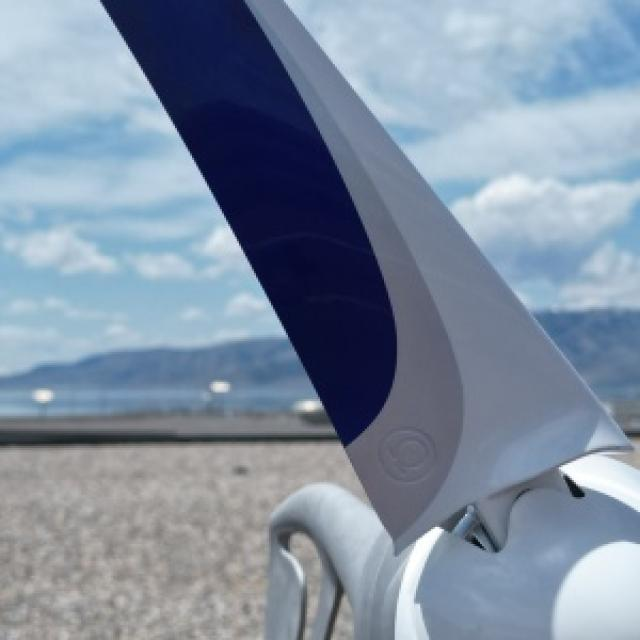healthy: (100, 0, 638, 638), (0, 439, 356, 638)
